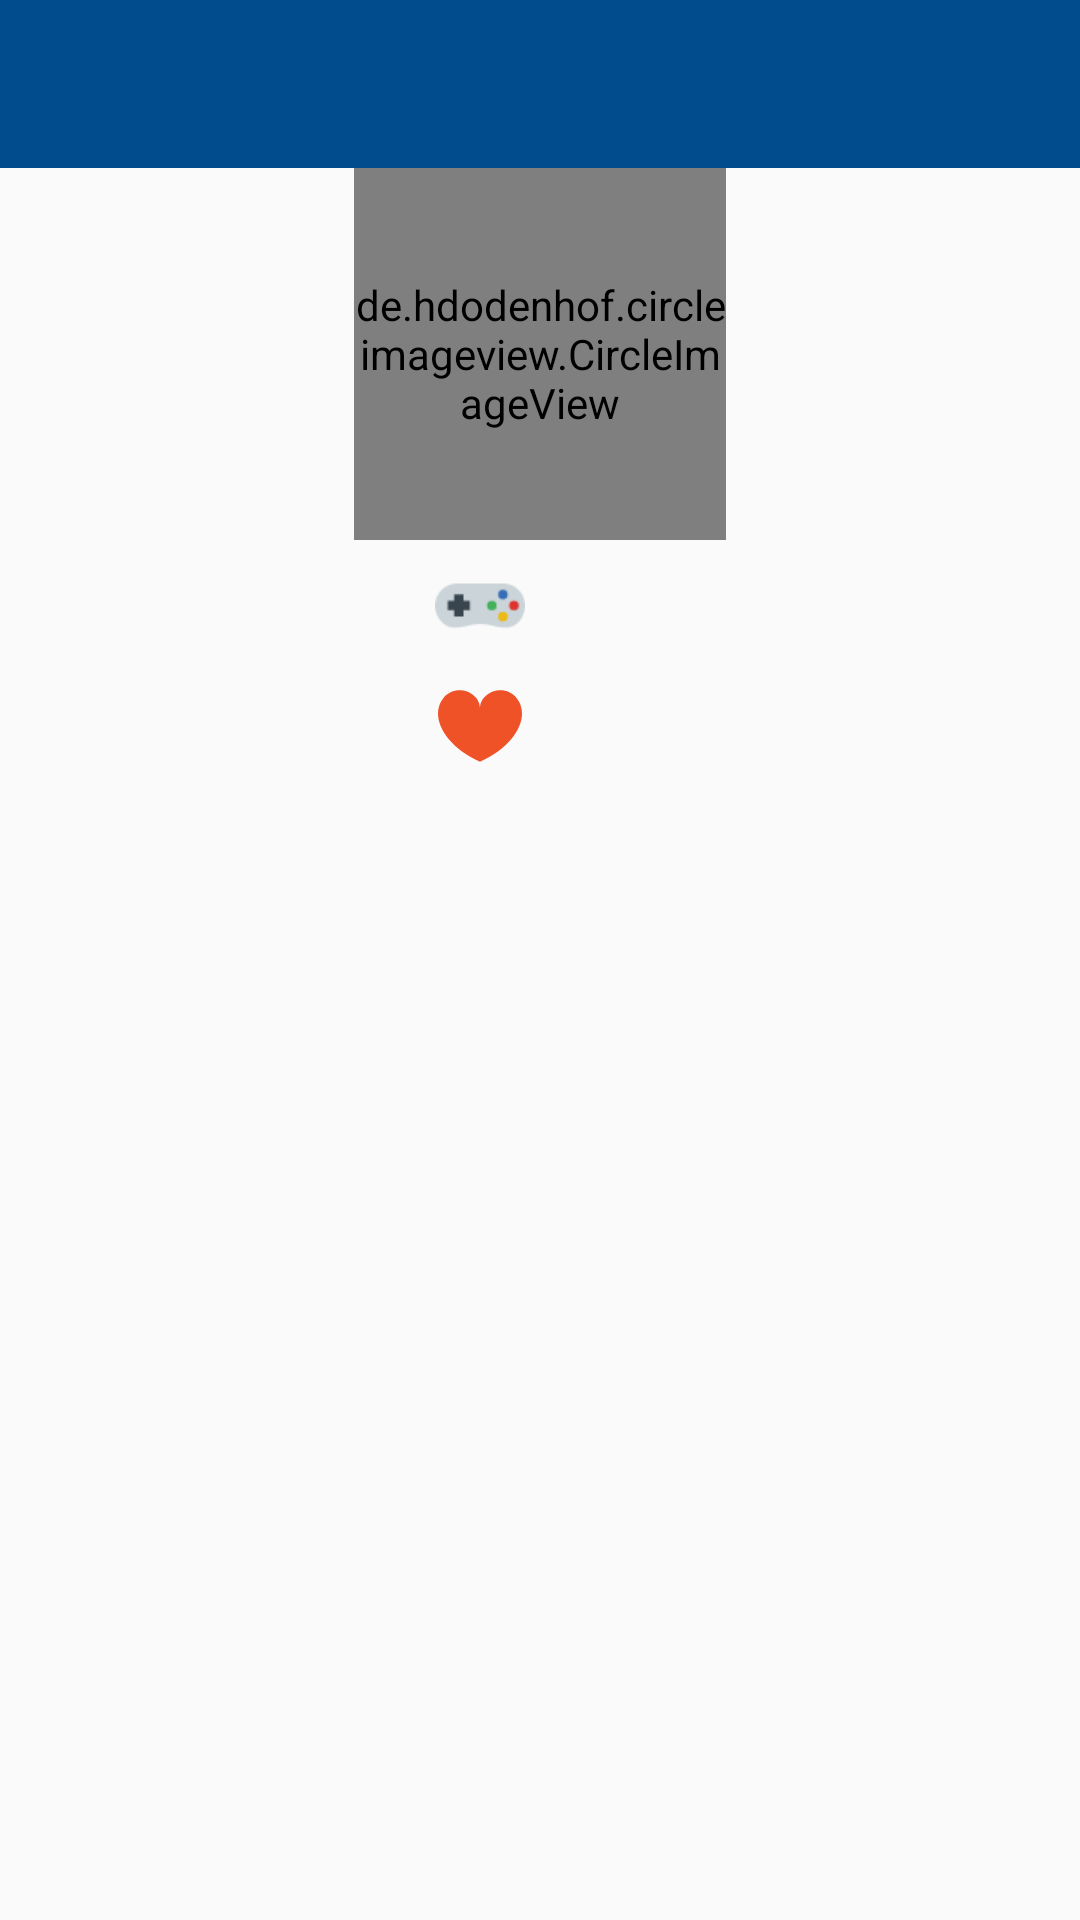

Icons on this 1080x1920 Android screen, each with its box as [x1,y1,x2,y2]:
heart: [438,690,522,762]
